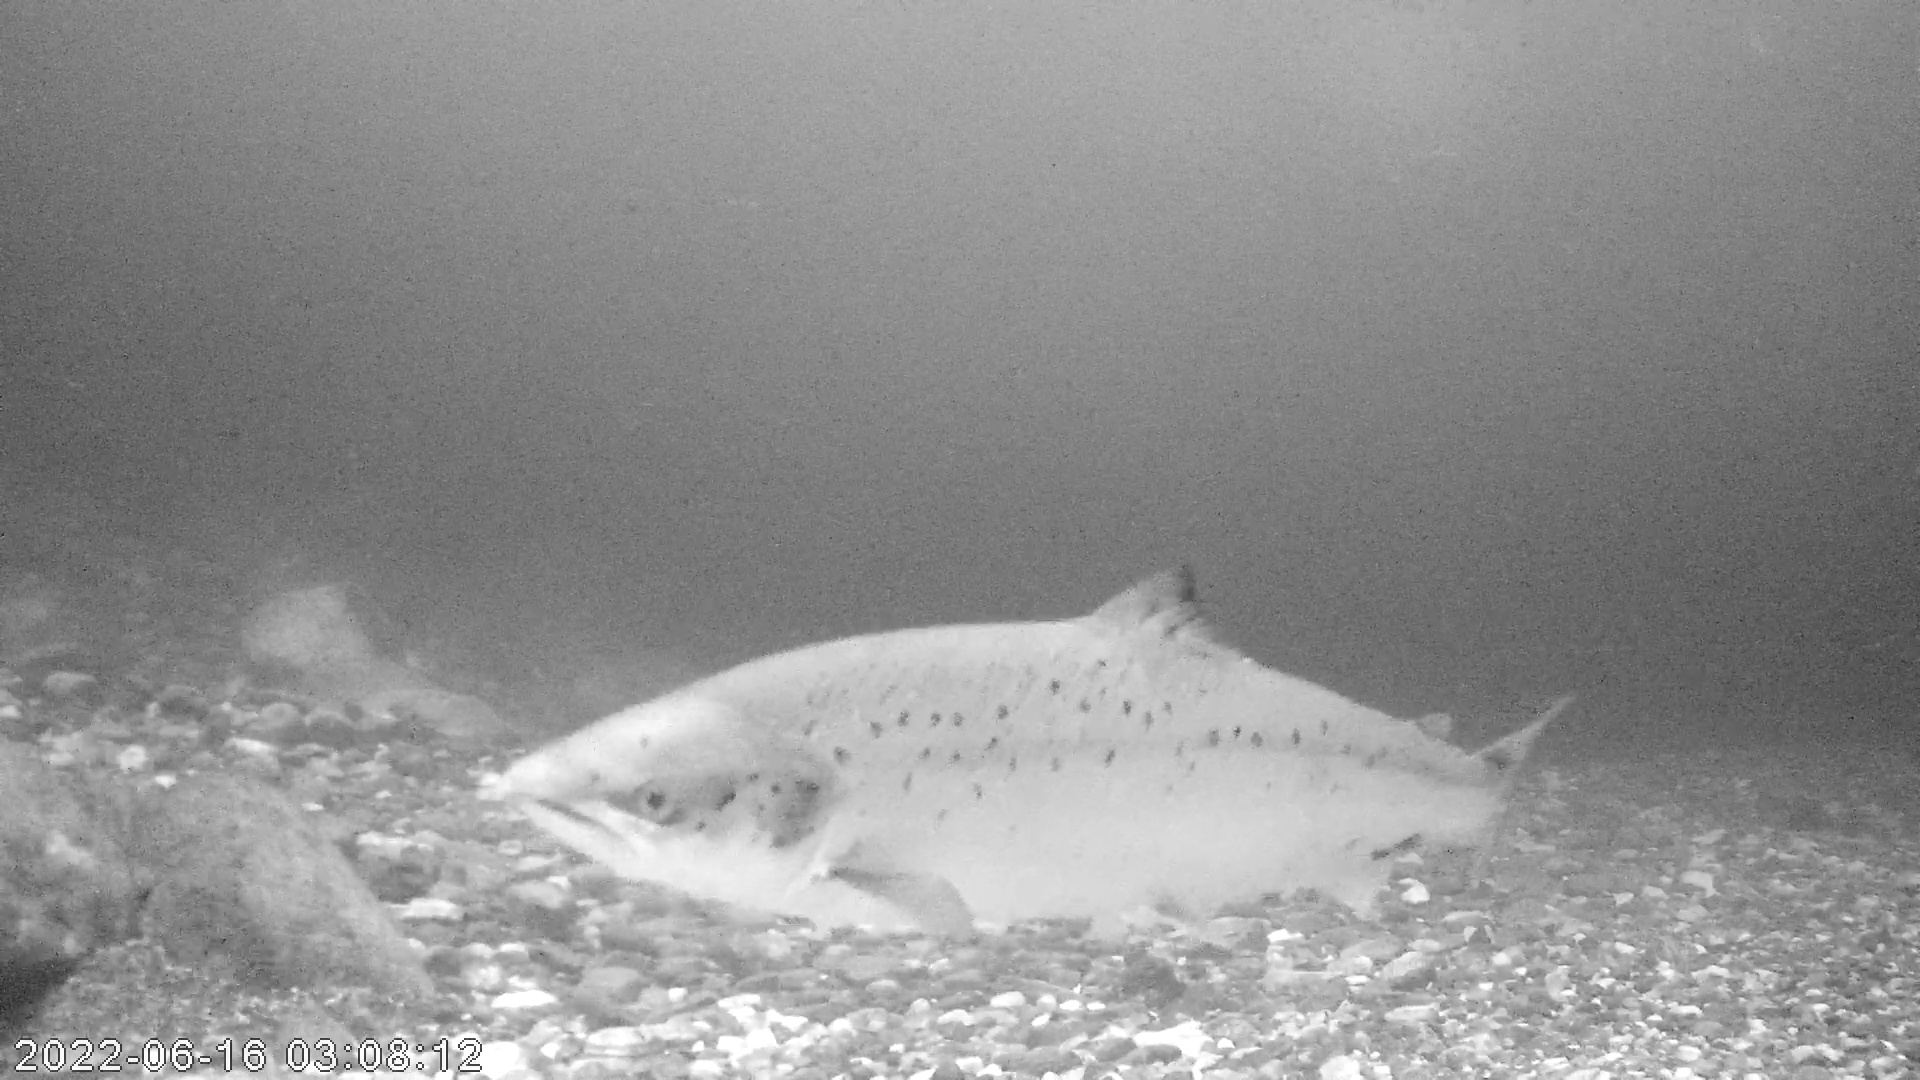salmon: (506, 560, 1581, 942)
